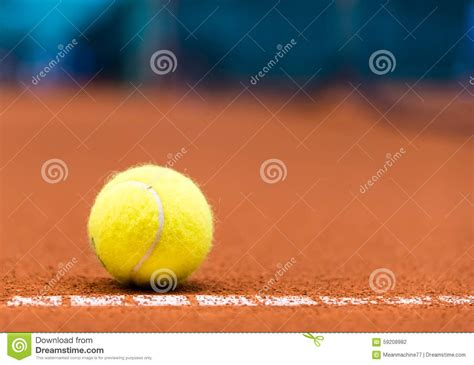tennis_ball: (87, 163, 215, 288)
